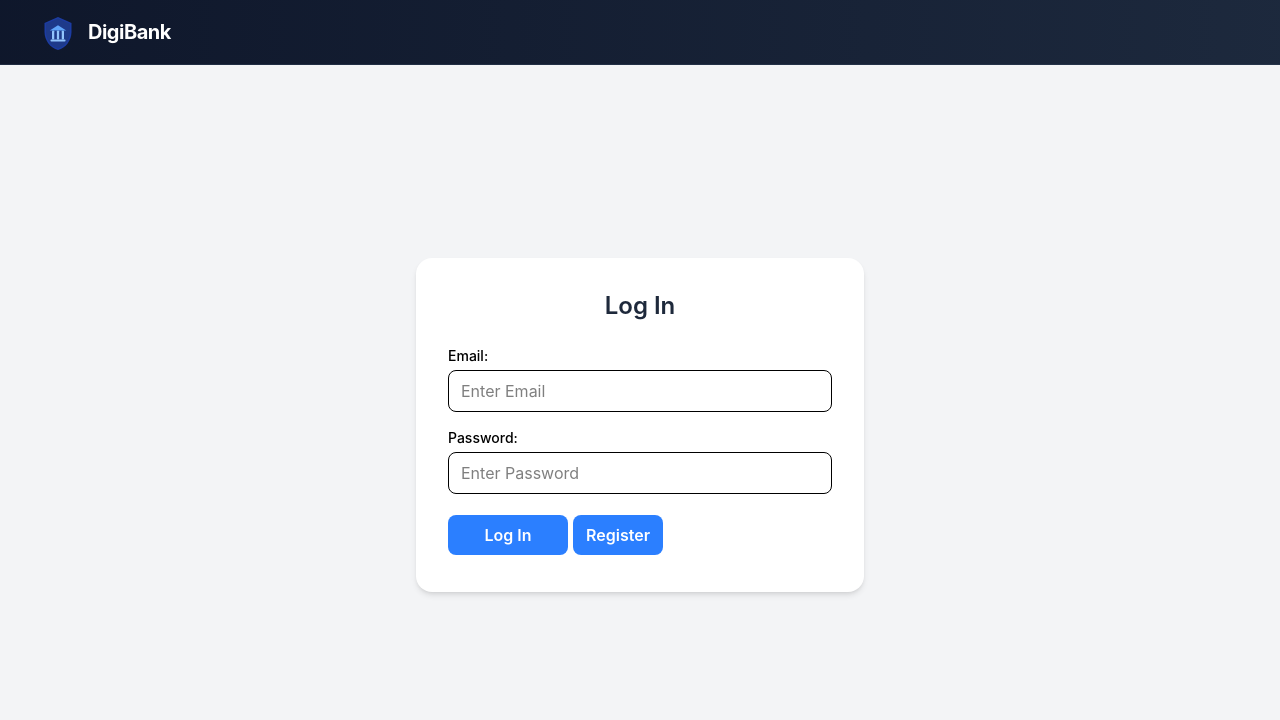
Test: Login Page › should show validation error for invalid email
The width and height of the screenshot is (1280, 720).
Type "invalid" into the field with placeholder "Enter Email".
click(640, 391); type("invalid")  # box x1=448 y1=370 x2=832 y2=412
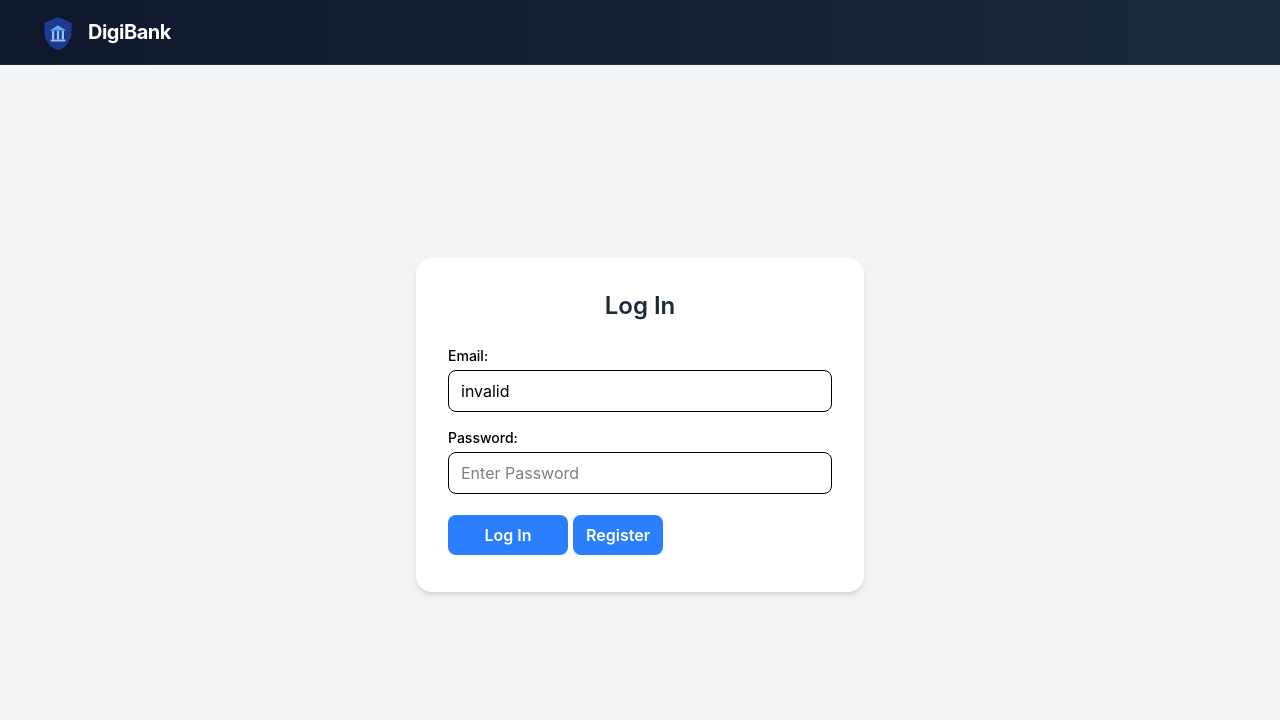
Type "123456" into the password field with placeholder "Enter Password".
click(640, 473); type("123456")  # box x1=448 y1=452 x2=832 y2=494
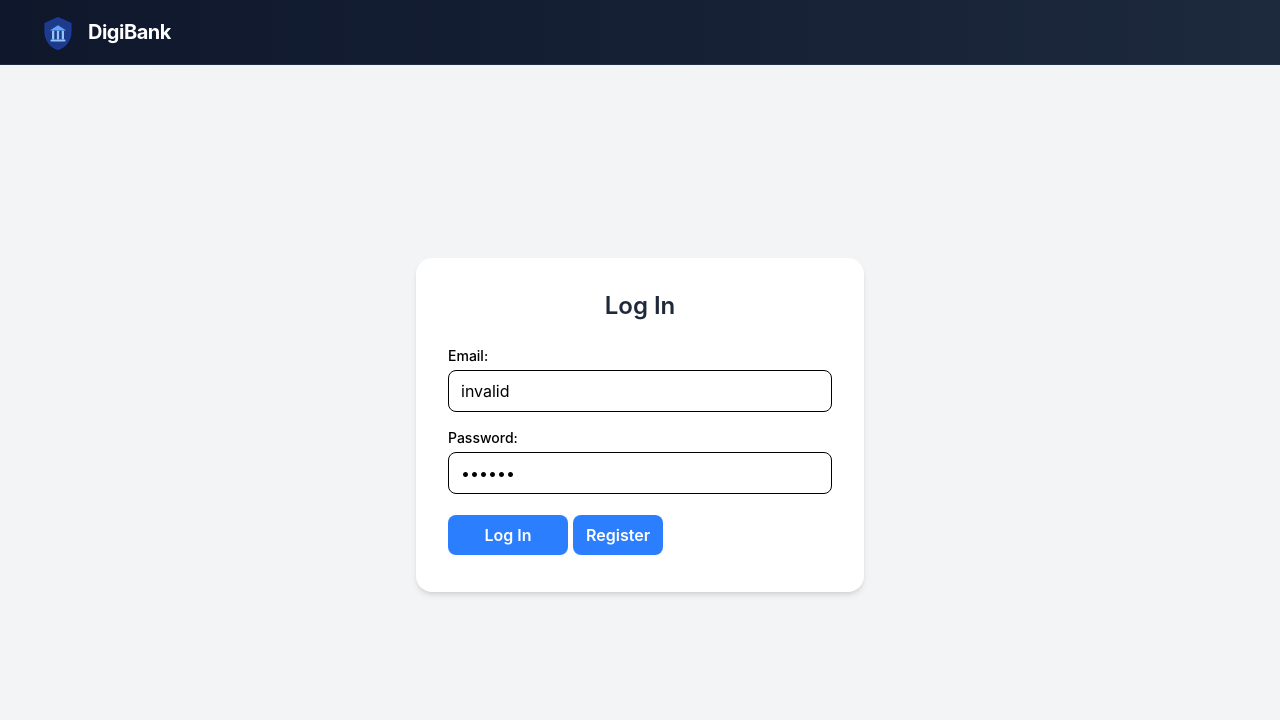
Submit the form with placeholder "Enter Email", box x1=448 y1=346 x2=832 y2=560
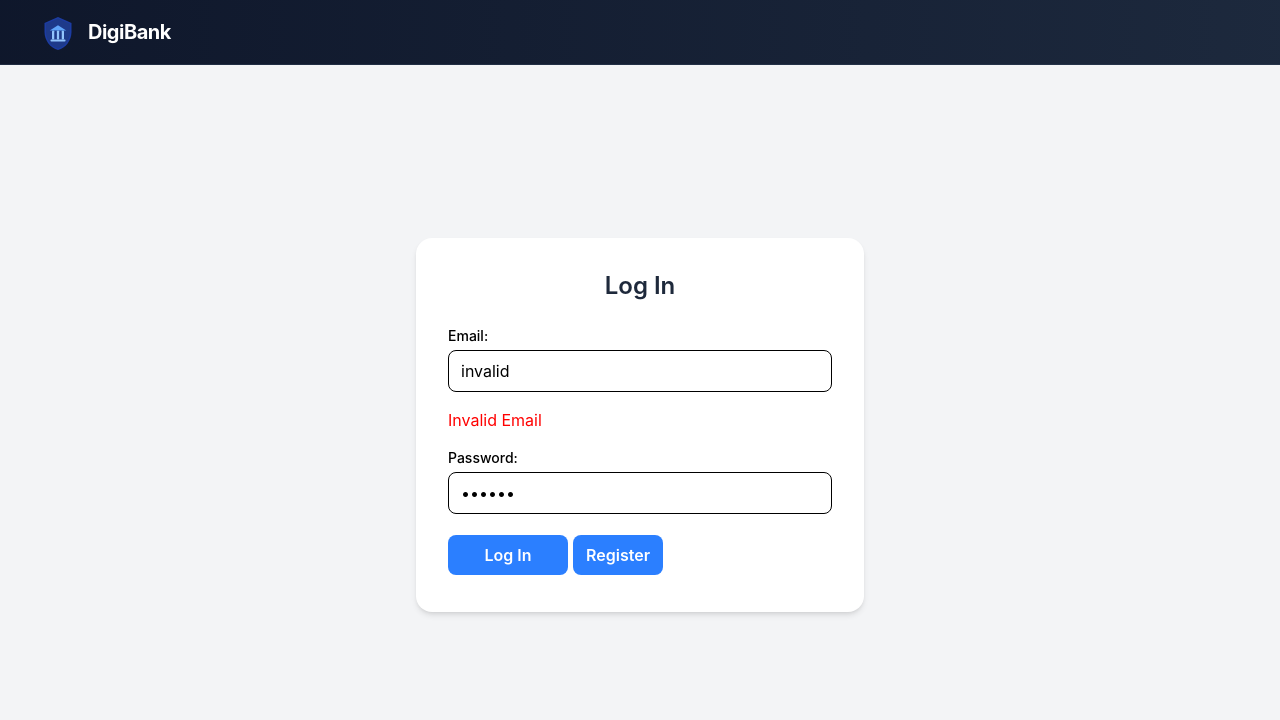
Expected: the text "Invalid Email" is shown, x1=448 y1=410 x2=542 y2=430
